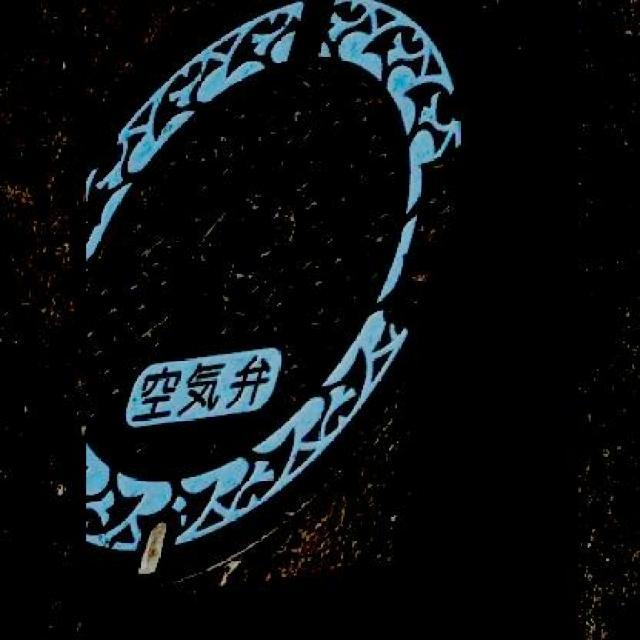Manhole: (86, 0, 580, 640)
